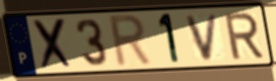1: (155, 11, 182, 66)
3: (75, 17, 110, 67)
R: (107, 13, 155, 70), (222, 11, 266, 62)
V: (184, 12, 220, 62)
X: (31, 16, 76, 72)
